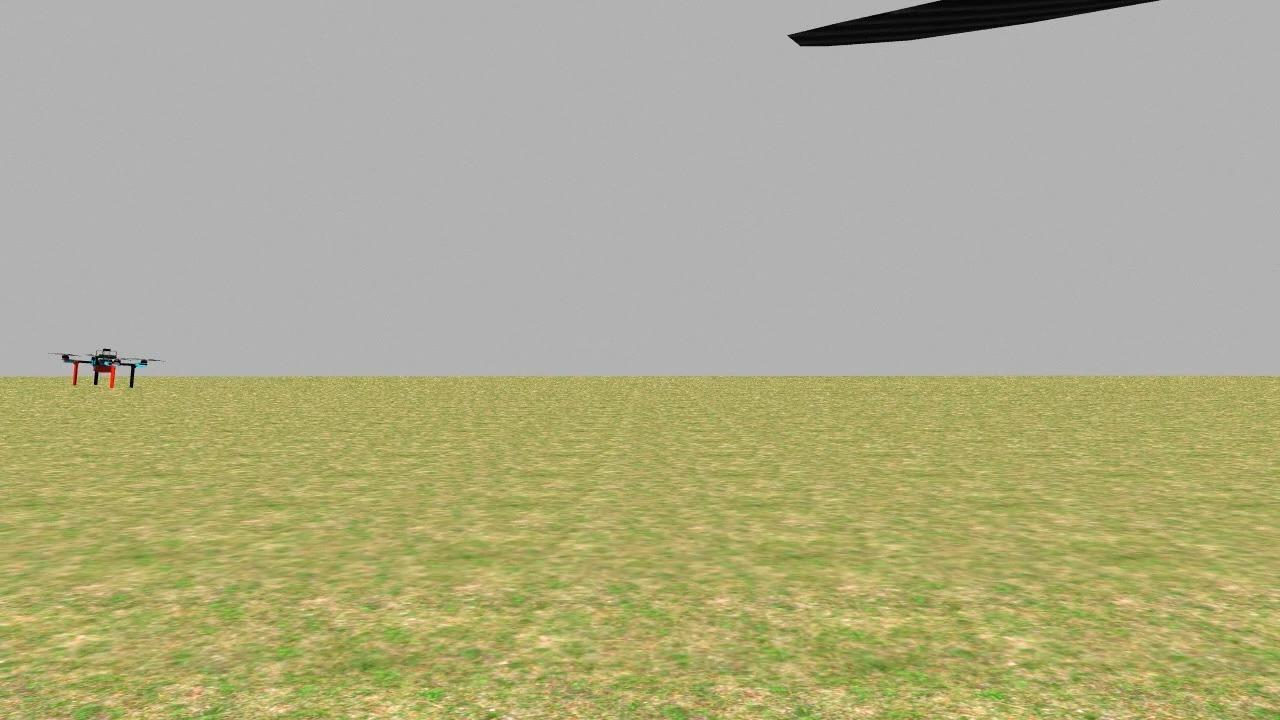UAV: (61, 339, 150, 393)
